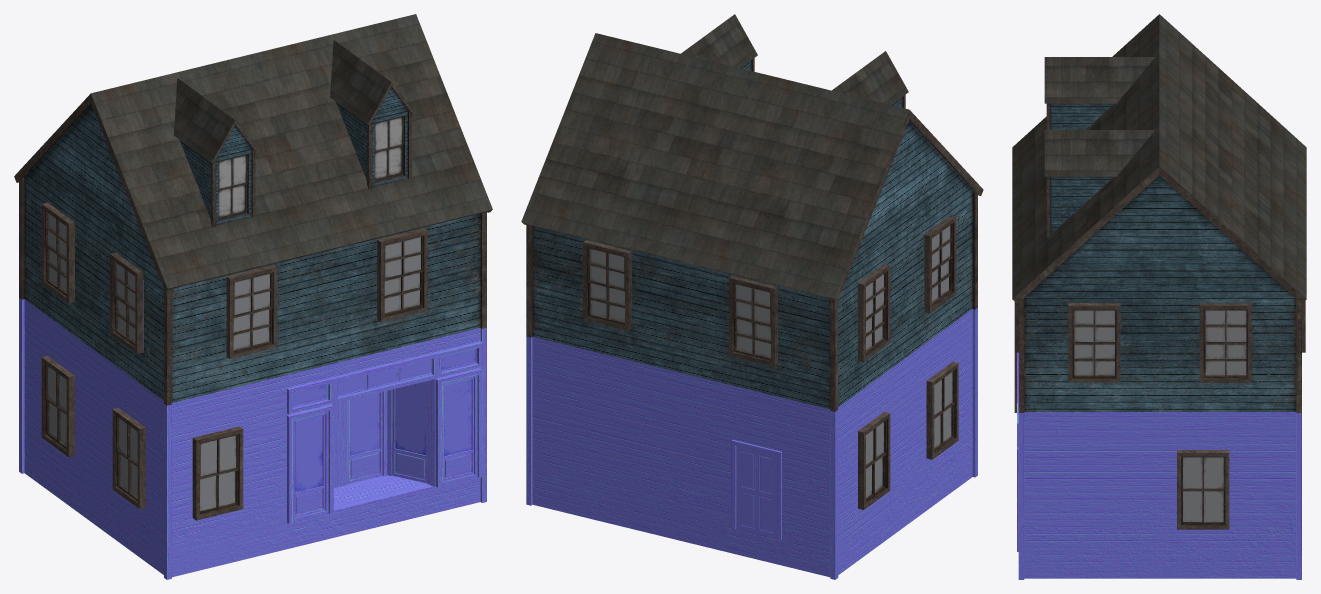
File: RoofTop_Background4.fbx
The picture shows the model from 3 angles, left to right: view 1: azimuth 30°, elevation 25°; view 2: azimuth 150°, elevation 25°; view 3: azimuth 270°, elevation 25°; orthographic projection. The views are drawn at different scales.
Visible parts, largest first — view 1: t_002_b001_1_1, t_002_br001_1, t_002_b002_2_1, t_002_br_opt_02__1_, t_002_br_opt_02, window_002_2_1, window_001_1, window_002_3_1, window_002_2, window_002_1_1, window_001_3, window_001_2; view 2: t_002_br001_1, t_002_b001_1_1, t_002_b002_2_1, t002_door001, window_002_3, window_002_1_2, window_002_1_1, window_001_3, window_001_2, window_002_2, t_002_br_opt_02__1_, t_002_br_opt_02; view 3: t_002_br001_1, t_002_b001_1_1, t_002_b002_2_1, t_002_br_opt_02, t_002_br_opt_02__1_, window_002_1, window_001_4, window_002_3_2.
Boxes of the visible parts, bbox=[...] form: t_002_b001_1_1: bbox=[19, 280, 486, 579]; t_002_br001_1: bbox=[14, 14, 492, 291]; t_002_b002_2_1: bbox=[19, 178, 486, 405]; t_002_br_opt_02__1_: bbox=[174, 78, 258, 227]; t_002_br_opt_02: bbox=[330, 40, 414, 189]; window_002_2_1: bbox=[226, 265, 277, 358]; window_001_1: bbox=[192, 426, 243, 520]; window_002_3_1: bbox=[377, 228, 427, 321]; window_002_2: bbox=[41, 202, 74, 303]; window_002_1_1: bbox=[110, 252, 143, 353]; window_001_3: bbox=[41, 356, 74, 457]; window_001_2: bbox=[112, 407, 145, 508]; t_002_br001_1: bbox=[521, 33, 983, 300]; t_002_b001_1_1: bbox=[526, 307, 977, 579]; t_002_b002_2_1: bbox=[526, 191, 977, 411]; t002_door001: bbox=[731, 440, 781, 540]; window_002_3: bbox=[583, 240, 631, 330]; window_002_1_2: bbox=[729, 275, 777, 366]; window_002_1_1: bbox=[924, 215, 956, 313]; window_001_3: bbox=[858, 412, 890, 509]; window_001_2: bbox=[926, 362, 958, 459]; window_002_2: bbox=[858, 264, 889, 361]; t_002_br_opt_02__1_: bbox=[832, 51, 908, 108]; t_002_br_opt_02: bbox=[681, 14, 757, 71]; t_002_br001_1: bbox=[1012, 14, 1306, 303]; t_002_b001_1_1: bbox=[1017, 352, 1301, 579]; t_002_b002_2_1: bbox=[1018, 296, 1301, 412]; t_002_br_opt_02: bbox=[1044, 130, 1155, 238]; t_002_br_opt_02__1_: bbox=[1044, 57, 1155, 129]; window_002_1: bbox=[1199, 303, 1251, 382]; window_001_4: bbox=[1177, 450, 1229, 529]; window_002_3_2: bbox=[1068, 303, 1120, 382].
Size of the model in its own units: 1009 by 1277 by 821.
